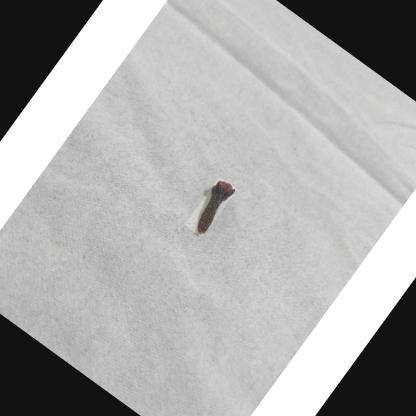sedang: (195, 182, 234, 236)
